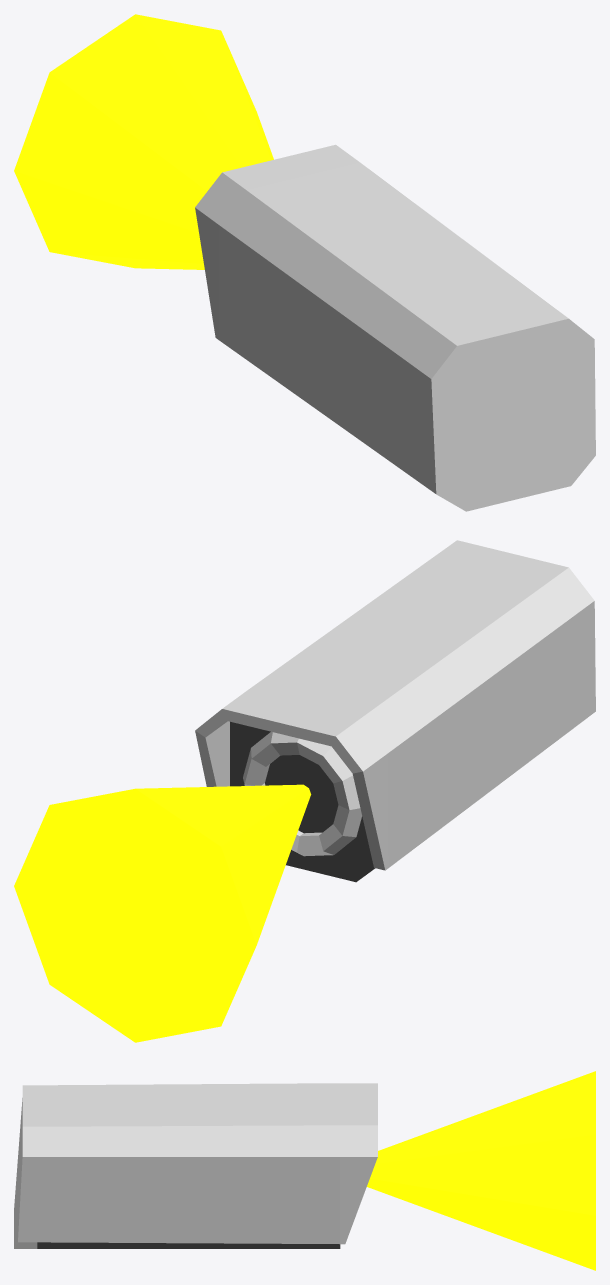
The model's file is dolly-cam.gltf.
3 renders of one model, top to bottom at view 1: azimuth 30°, elevation 25°; view 2: azimuth 150°, elevation 25°; view 3: azimuth 270°, elevation 25°, orthographic. The views are drawn at different scales.
Visible parts, largest first — view 1: top, ray; view 2: top, ray, body, ring; view 3: top, ray, body.
Part boxes in pixels (<box>): top: <box>195,144,595,511</box>; ray: <box>14,14,273,269</box>; top: <box>195,540,595,870</box>; ray: <box>14,784,311,1042</box>; body: <box>230,721,375,882</box>; ring: <box>243,731,361,856</box>; top: <box>14,1083,377,1248</box>; ray: <box>367,1071,595,1270</box>; body: <box>37,1242,340,1248</box>.
Size of the model in its own units: 0.1763 by 0.1763 by 0.4821.
